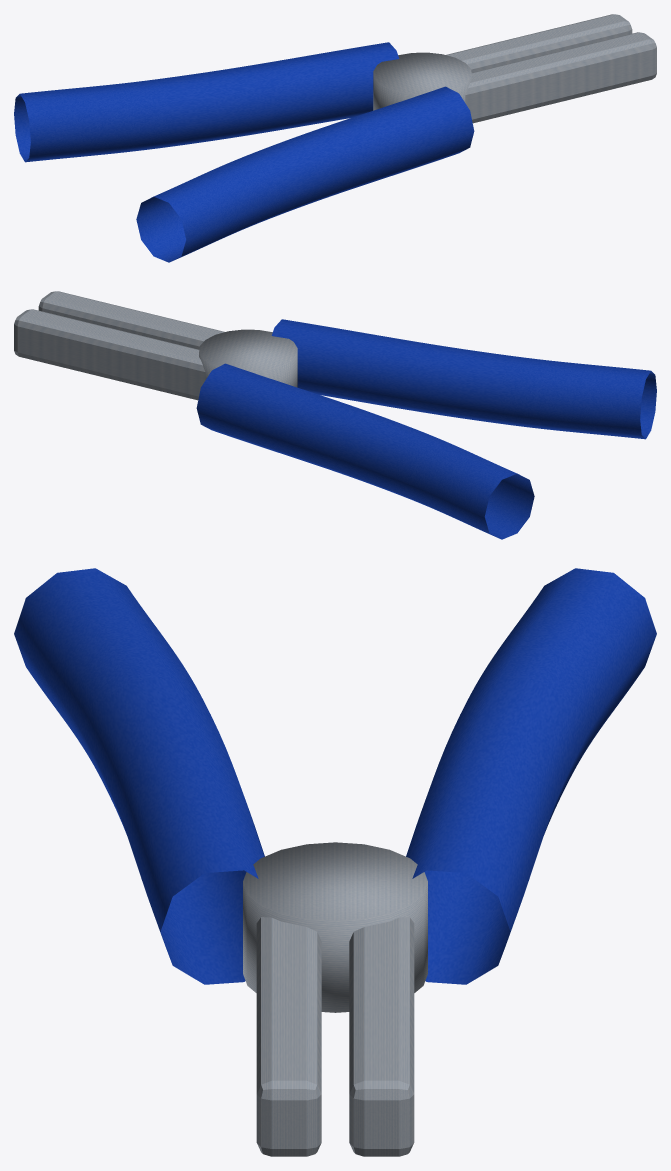
Rendered from NeedleNosePliers.obj.
3 renders of one model, top to bottom at view 1: azimuth 30°, elevation 25°; view 2: azimuth 150°, elevation 25°; view 3: azimuth 270°, elevation 25°, orthographic. The views are drawn at different scales.
Parts seen in each view (by area): view 1: Handle.003, Handle.002, Jaw.002, Jaw.003, Pivot.001; view 2: Handle.002, Handle.003, Jaw.003, Jaw.002, Pivot.001; view 3: Handle.002, Handle.003, Pivot.001, Jaw.002, Jaw.003.
Boxes of the visible parts, x1=… form: Handle.003: x1=14, y1=42, x2=399, y2=162; Handle.002: x1=136, y1=86, x2=474, y2=262; Jaw.002: x1=465, y1=32, x2=656, y2=123; Jaw.003: x1=446, y1=14, x2=632, y2=72; Pivot.001: x1=373, y1=52, x2=471, y2=110; Handle.002: x1=271, y1=319, x2=656, y2=439; Handle.003: x1=196, y1=363, x2=534, y2=539; Jaw.003: x1=14, y1=309, x2=205, y2=400; Jaw.002: x1=38, y1=291, x2=224, y2=349; Pivot.001: x1=199, y1=329, x2=297, y2=387; Handle.002: x1=14, y1=568, x2=264, y2=984; Handle.003: x1=406, y1=568, x2=656, y2=984; Pivot.001: x1=243, y1=842, x2=427, y2=1012; Jaw.002: x1=256, y1=917, x2=321, y2=1156; Jaw.003: x1=349, y1=917, x2=414, y2=1156.
Size of the model in its own units: 0.6466 by 0.0666 by 0.3473.
